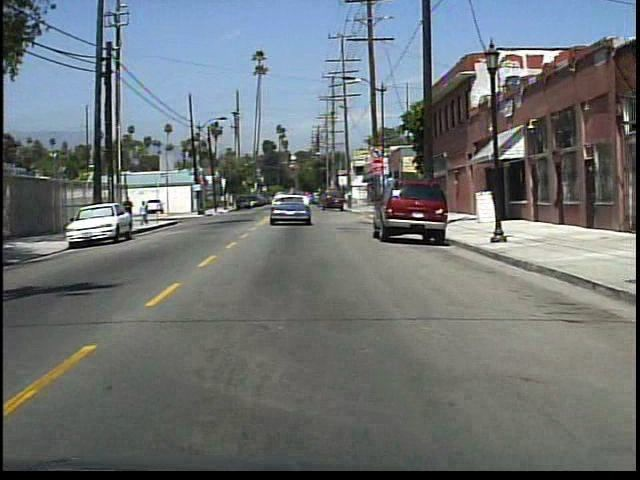person: (122, 195, 139, 228), (137, 199, 151, 228)
